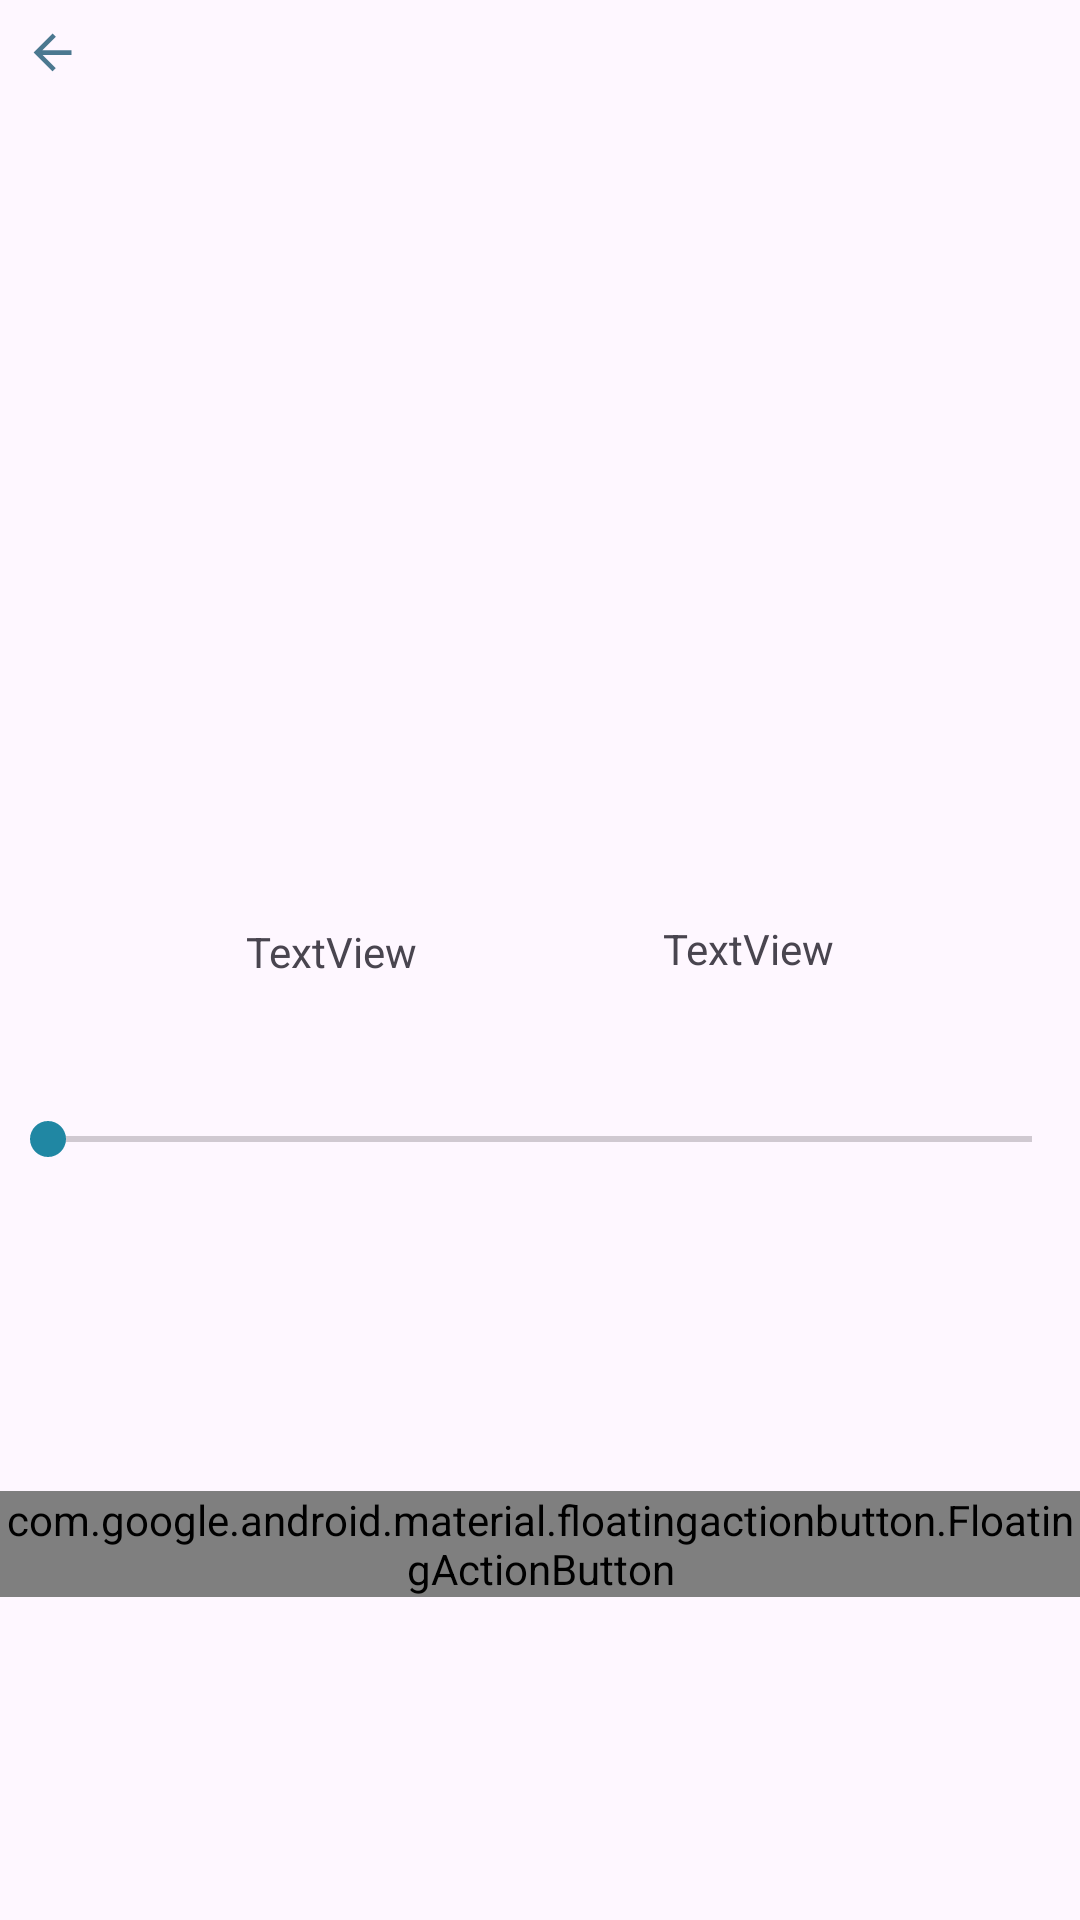

Named icons in this screenshot (1080x1920) and their bounding boxes, (x1, y1, x2, y2):
arrow back: (34, 33, 72, 71)
